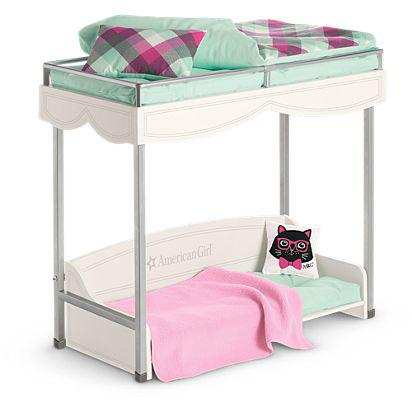bed: (32, 11, 398, 389)
